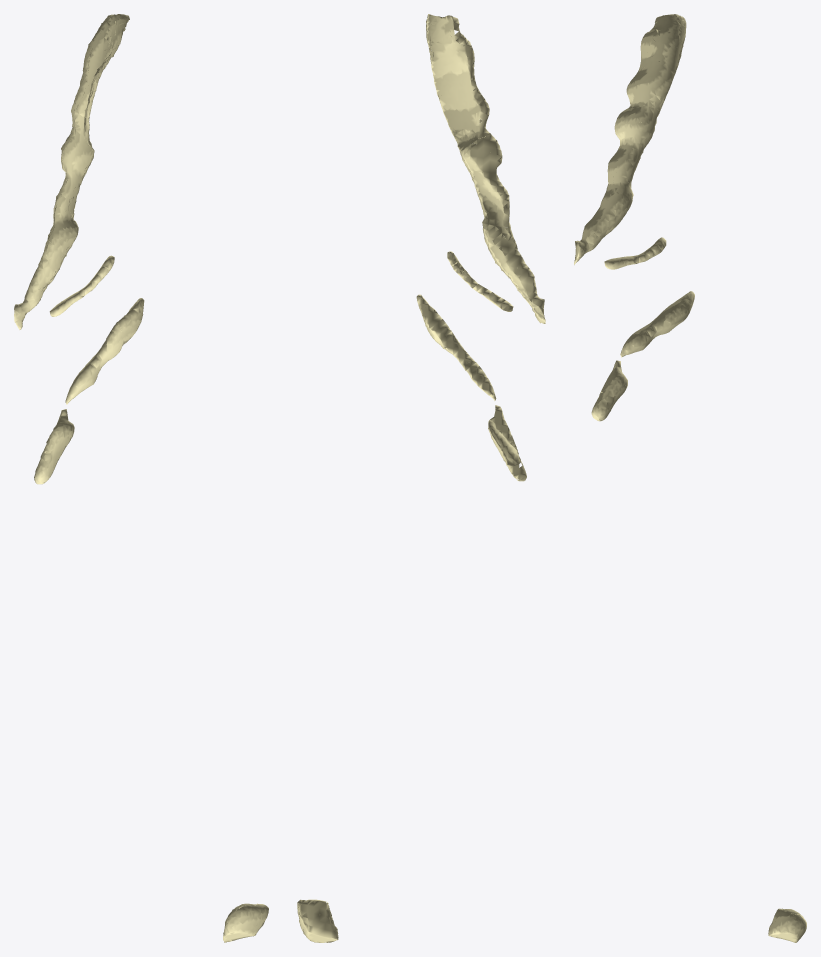
3 renders of one model, left to right at view 1: azimuth 30°, elevation 25°; view 2: azimuth 150°, elevation 25°; view 3: azimuth 330°, elevation 25°, orthographic. The views are drawn at different scales.
Visible parts, largest first — view 1: Switch_Switch_osgPicked_gmeGeoEntityGeode_Geometry_0, Switch_Switch_osgPicked_gmeGeoEntityGeode_Geometry_Geometry_ (×4); view 2: Switch_Switch_osgPicked_gmeGeoEntityGeode_Geometry_0, Switch_Switch_osgPicked_gmeGeoEntityGeode_Geometry_Geometry_ (×4); view 3: Switch_Switch_osgPicked_gmeGeoEntityGeode_Geometry_0, Switch_Switch_osgPicked_gmeGeoEntityGeode_Geometry_Geometry_ (×4).
Part boxes in pixels (<box>): Switch_Switch_osgPicked_gmeGeoEntityGeode_Geometry_0: <box>14,14,129,329</box>; Switch_Switch_osgPicked_gmeGeoEntityGeode_Geometry_Geometry_ (×4): <box>34,255,268,942</box>; Switch_Switch_osgPicked_gmeGeoEntityGeode_Geometry_0: <box>426,14,545,323</box>; Switch_Switch_osgPicked_gmeGeoEntityGeode_Geometry_Geometry_ (×4): <box>297,251,526,942</box>; Switch_Switch_osgPicked_gmeGeoEntityGeode_Geometry_0: <box>574,14,686,264</box>; Switch_Switch_osgPicked_gmeGeoEntityGeode_Geometry_Geometry_ (×4): <box>591,237,806,942</box>.
Size of what is drawn, in the model's own units: 20368 by 74261 by 2360.
